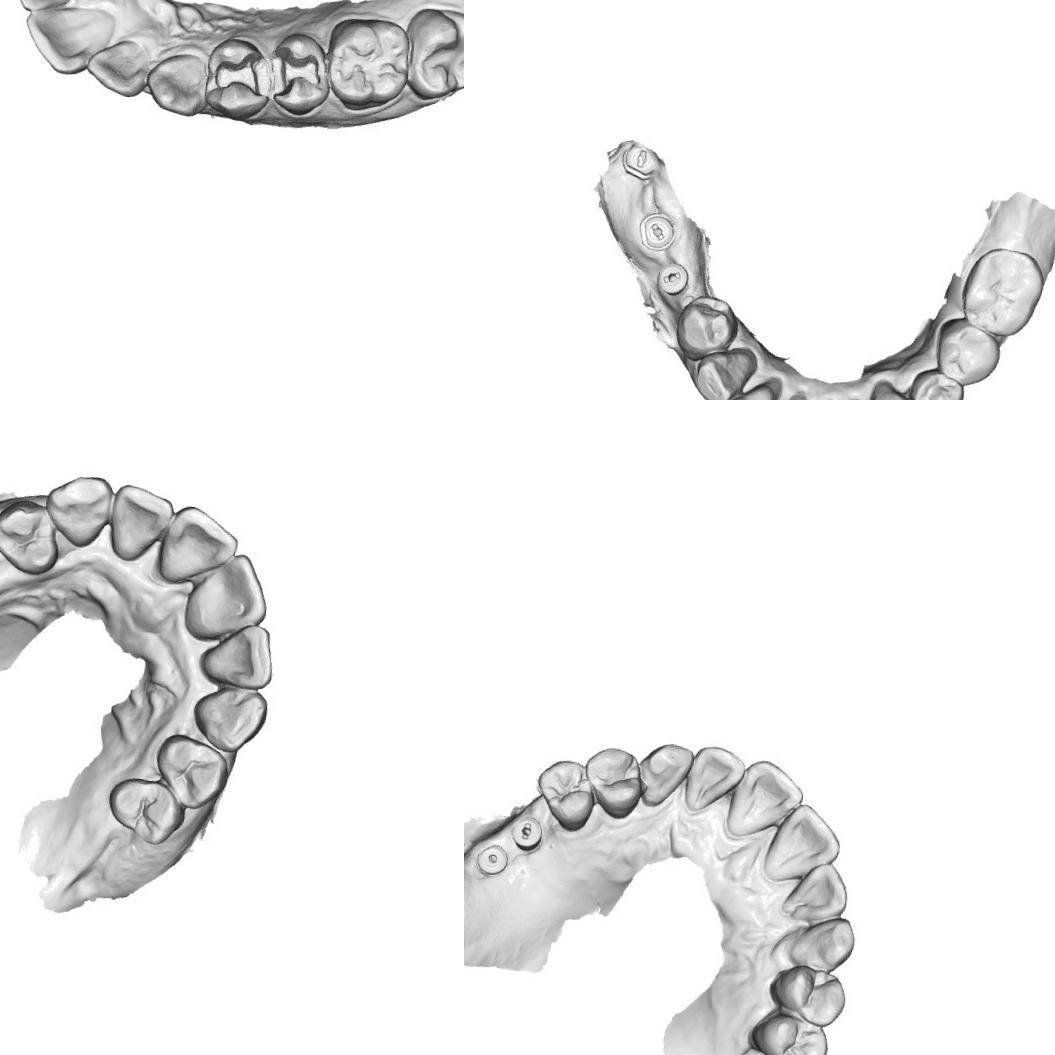canine: (192, 681, 268, 747), (45, 474, 112, 548), (781, 912, 859, 975), (142, 43, 206, 116), (632, 739, 694, 812), (691, 342, 759, 400), (864, 384, 926, 400)
implant: (473, 838, 512, 878)
implant_minus: (634, 207, 680, 251), (619, 138, 662, 182), (650, 257, 693, 298), (507, 814, 546, 854)
incisor: (183, 549, 267, 640), (24, 0, 120, 78), (723, 756, 806, 846), (761, 799, 844, 888), (158, 500, 238, 586), (109, 481, 175, 569), (200, 620, 278, 694), (778, 857, 852, 927), (682, 740, 748, 816), (88, 30, 152, 92), (717, 380, 778, 400)
inlay: (266, 41, 324, 103), (207, 48, 270, 101)
molar: (958, 242, 1050, 342), (326, 12, 418, 106), (401, 1, 464, 96)
premolar: (764, 961, 850, 1029), (110, 773, 186, 847), (579, 743, 650, 822), (532, 755, 601, 835), (931, 317, 1004, 392), (158, 731, 229, 805), (0, 495, 60, 571), (674, 294, 738, 360), (746, 1007, 832, 1055), (908, 366, 968, 400)
